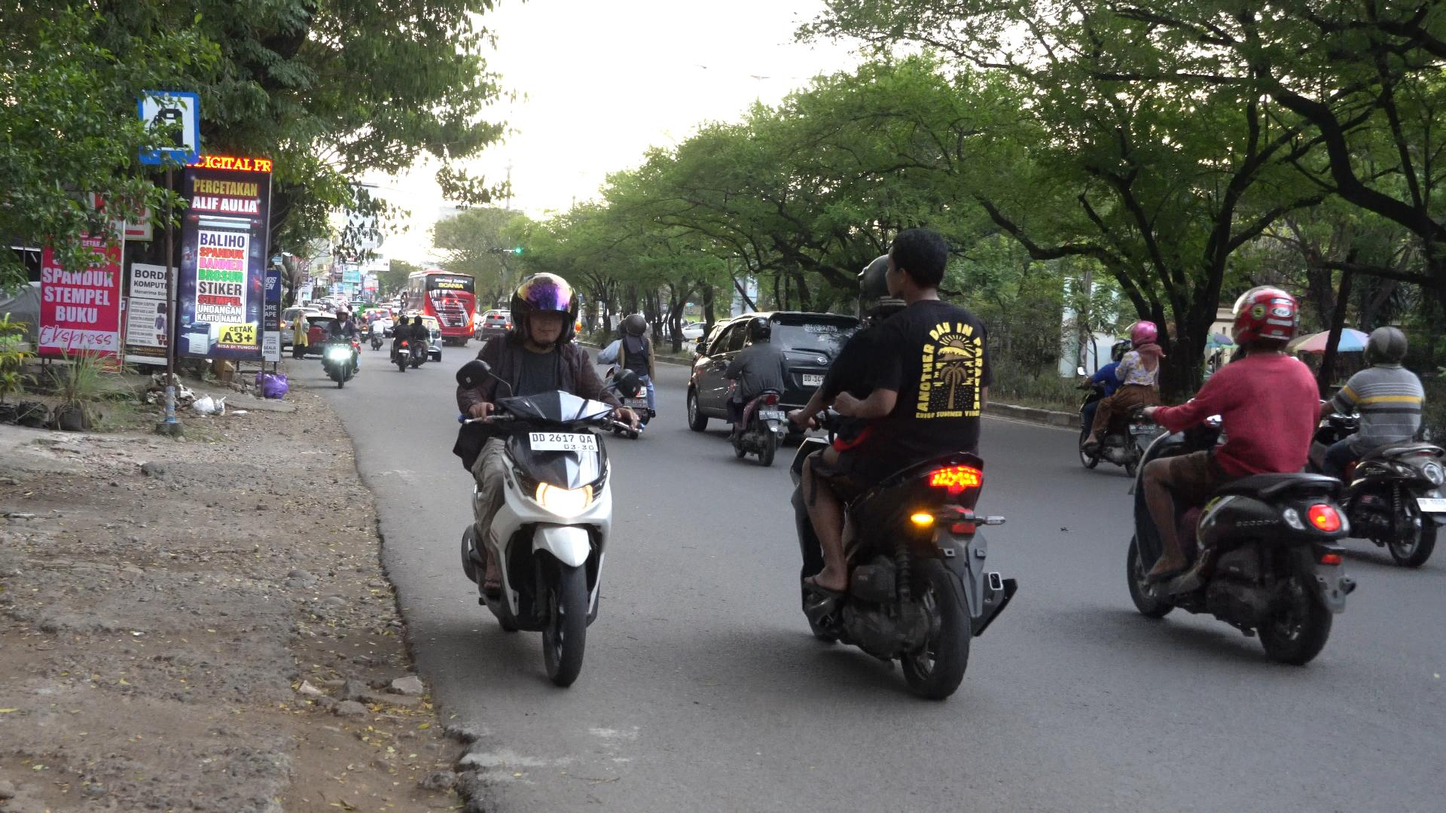number-plate: (529, 431, 599, 453)
